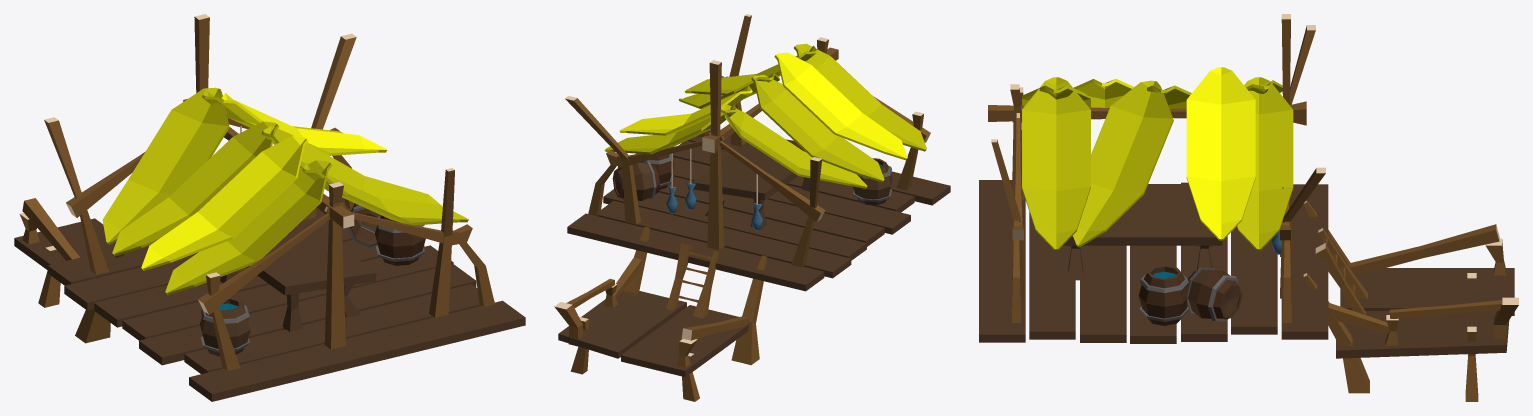
The model's file is MAISON EAU.fbx.
3 renders of one model, left to right at view 1: azimuth 30°, elevation 25°; view 2: azimuth 150°, elevation 25°; view 3: azimuth 270°, elevation 25°, orthographic. The views are drawn at different scales.
Parts seen in each view (by area): view 1: Plane.001; view 2: Plane.001; view 3: Plane.001.
Part boxes in pixels (x1,y1,x2,y2): Plane.001: (14, 14, 525, 401); Plane.001: (554, 14, 950, 401); Plane.001: (979, 14, 1518, 401).
Bounding box in the file's own units: 700 × 700 × 1000.
